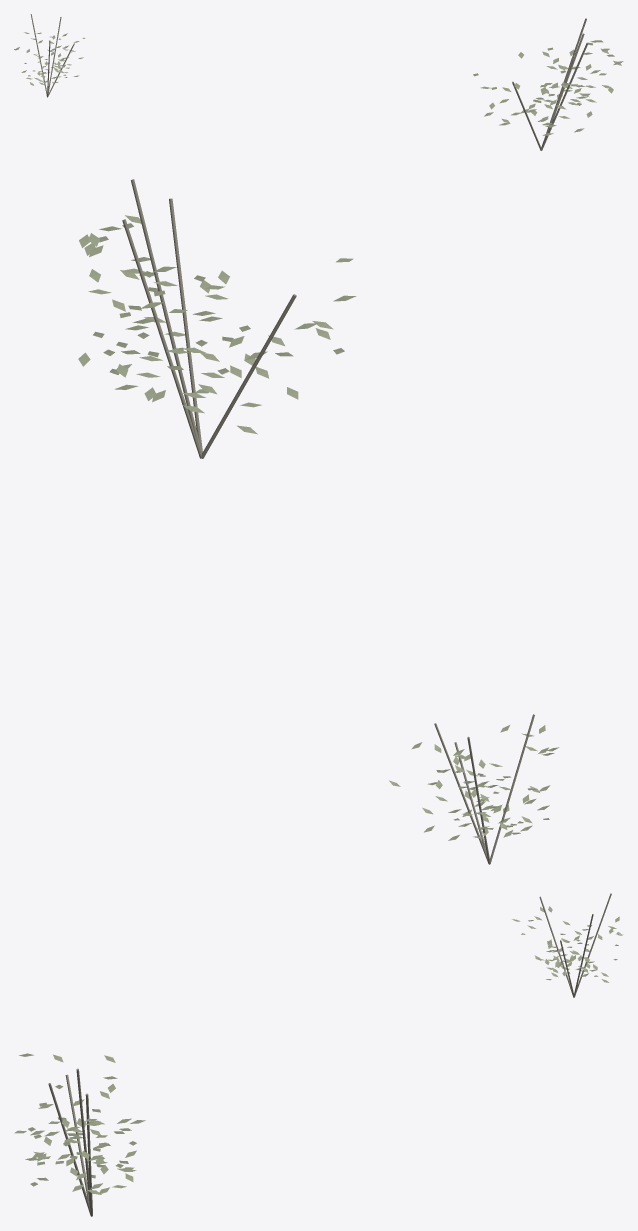
The model's file is AE_Shrubs_0_1.fbx.
3 views of the same model, one above another, from view 1: azimuth 30°, elevation 25°; view 2: azimuth 150°, elevation 25°; view 3: azimuth 270°, elevation 25° (orthographic). The views are drawn at different scales.
Parts seen in each view (by area): view 1: AE_Shrubs_0_1_LOD0; view 2: AE_Shrubs_0_1_LOD0; view 3: AE_Shrubs_0_1_LOD0.
Boxes of the visible parts, x1,y1,x2,y2 form: AE_Shrubs_0_1_LOD0: (14, 14, 623, 150); AE_Shrubs_0_1_LOD0: (78, 179, 559, 864); AE_Shrubs_0_1_LOD0: (14, 893, 623, 1216).
Size of what is drawn, in the model's own units: 687 by 202 by 642.
